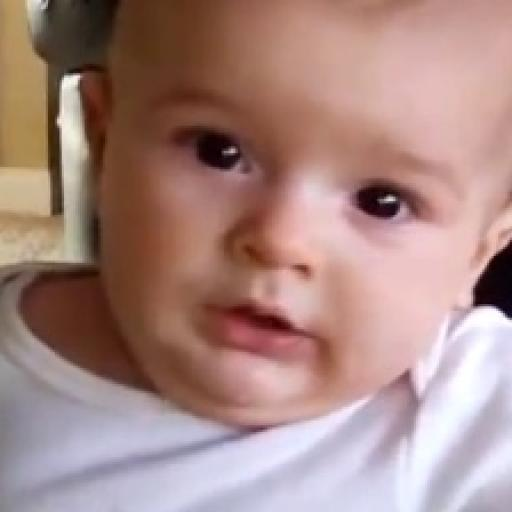Autism: (103, 0, 506, 499)
